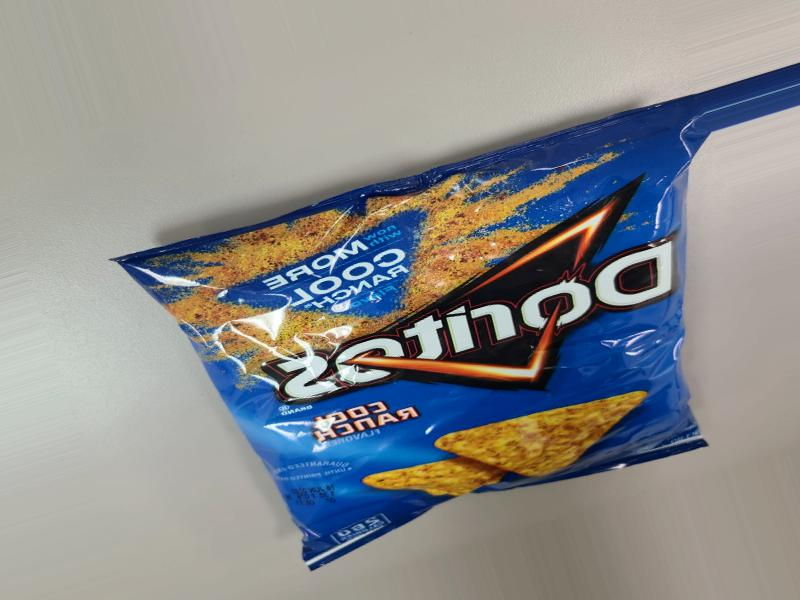doritos: (168, 93, 800, 600)
